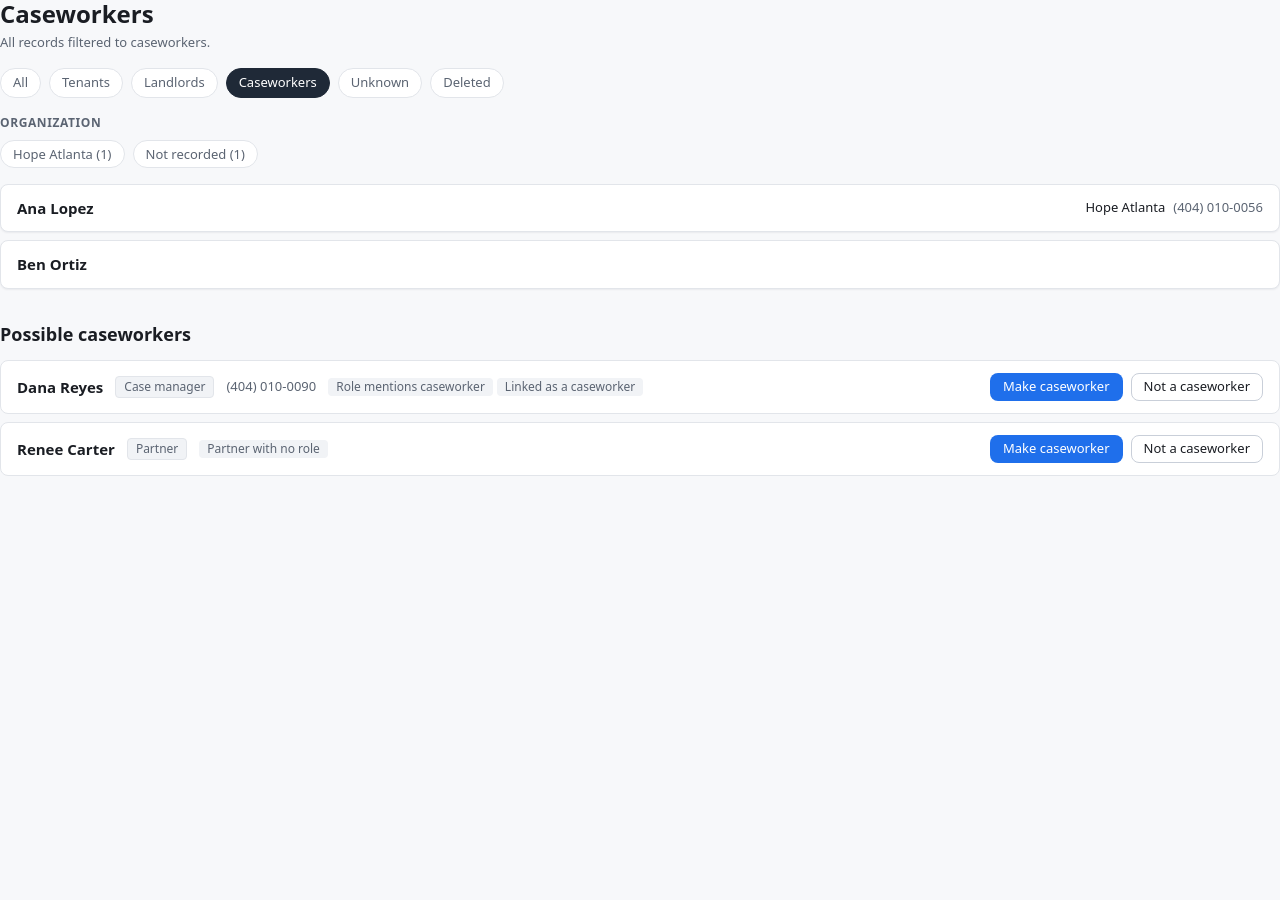
Scenario: CaseworkersList - Possible caseworkers (spec 2026-10-06 D19, D22) › Cancel hides nothing; a failed Hide says so and keeps the dialog
Click the button with aria-label "Dana Reyes is not a caseworker" at (1197, 387), box [1131,373,1263,401]
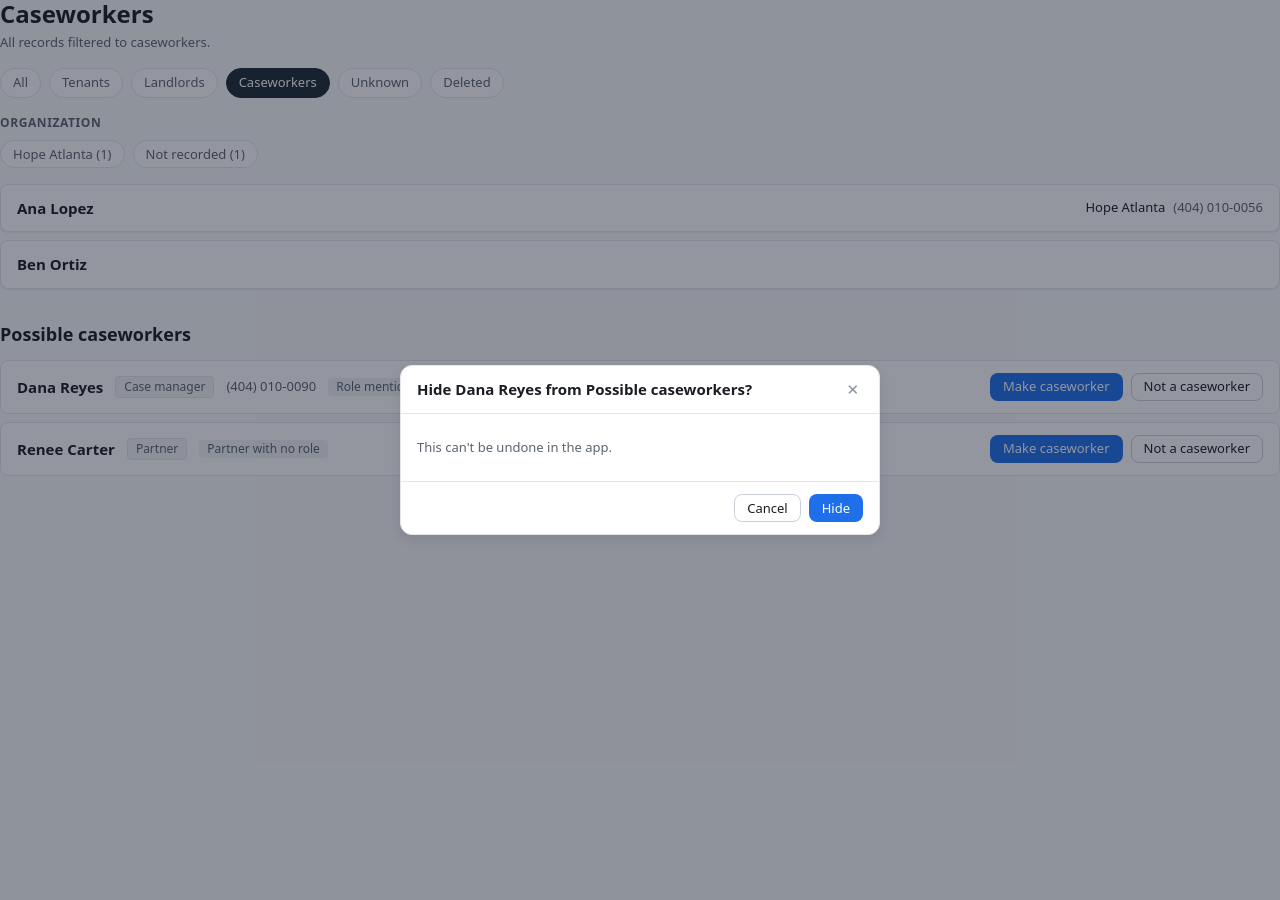
Click the button "Cancel" at (767, 508), box [734,494,801,522]
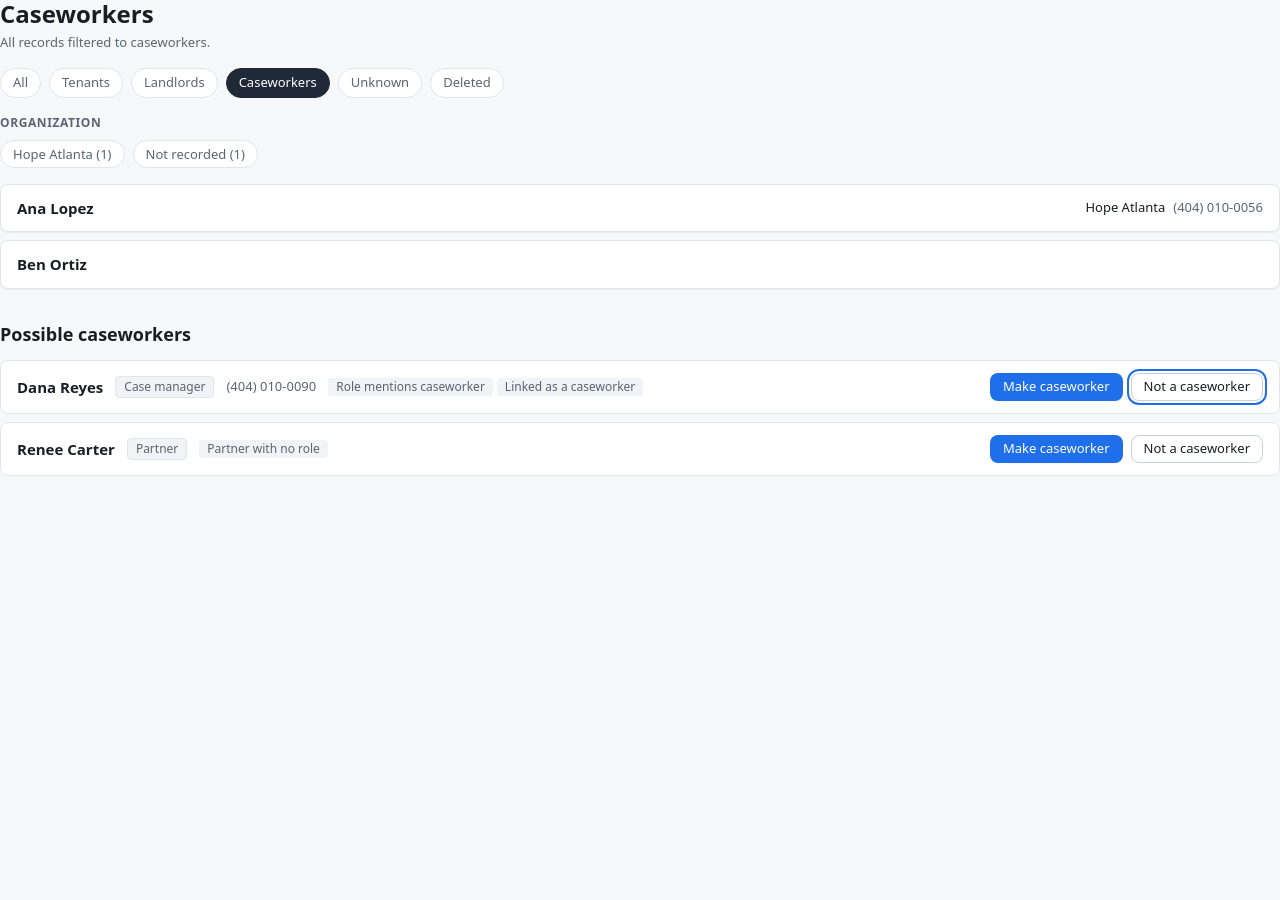
Expected: the heading "Hide Dana Reyes" is gone
Click the button with aria-label "Dana Reyes is not a caseworker" at (1197, 387), box [1131,373,1263,401]
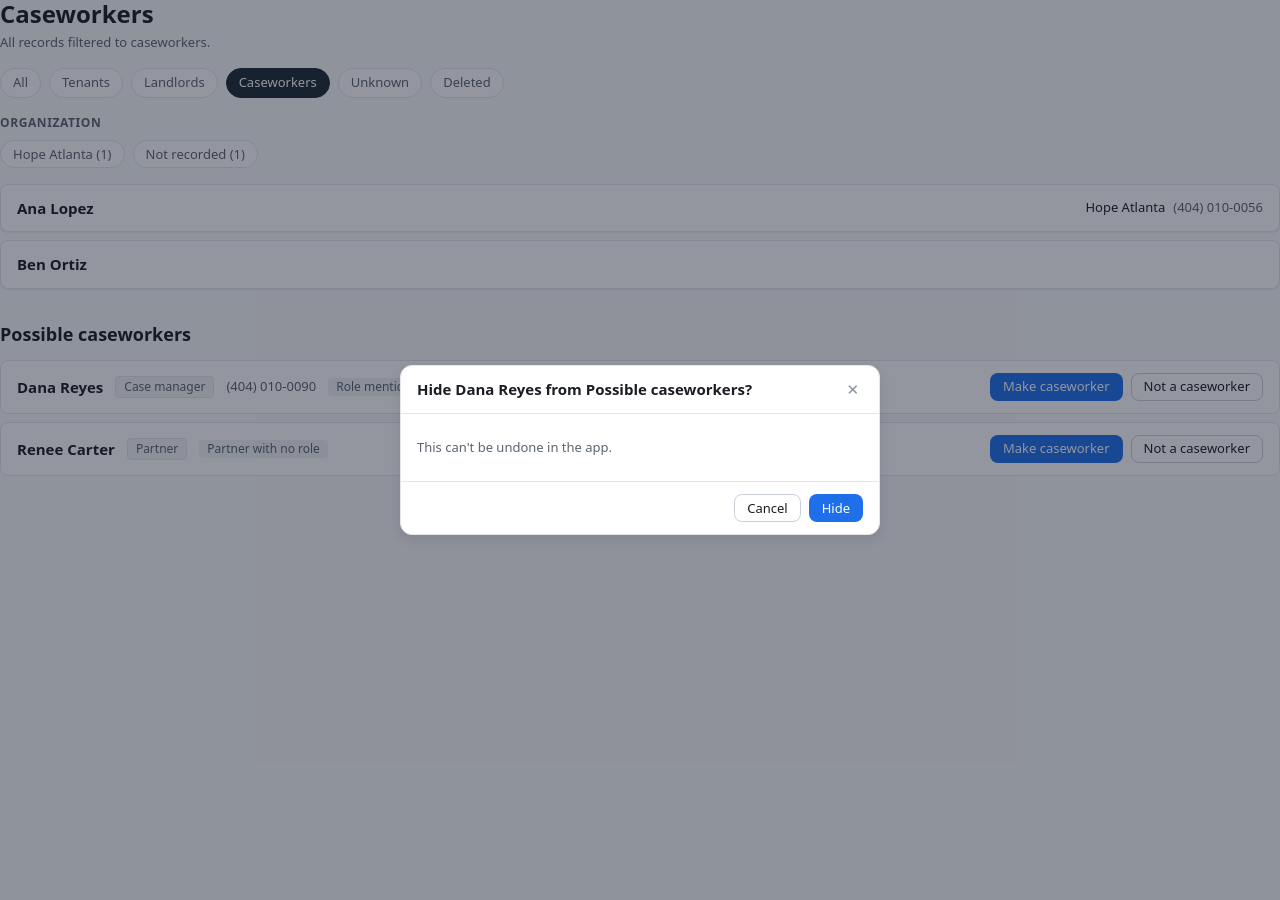
Click the button "Hide" at (836, 508), box [809,494,863,522]
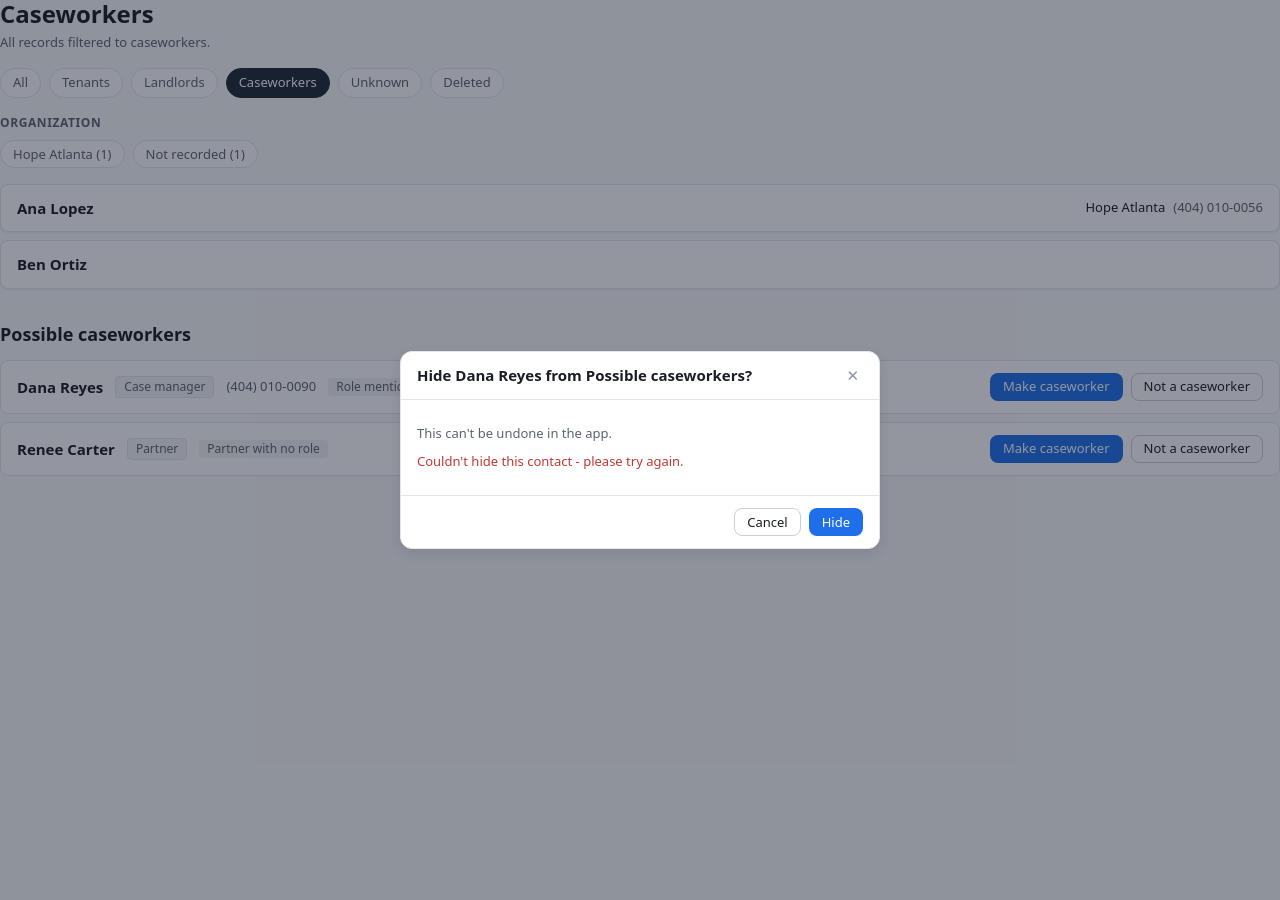
Expected: the link "Dana Reyes" is shown, [17,376,103,398]
Expected: the message reads "Couldn't hide this contact - please try again.", [417,452,684,470]
